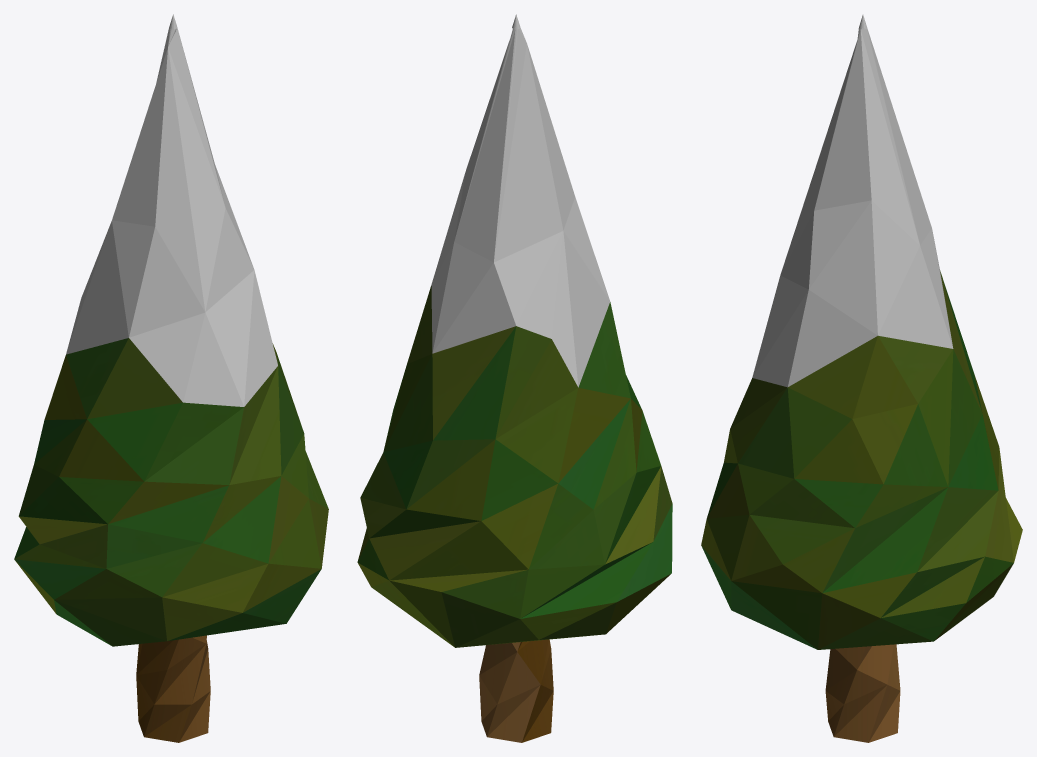
Rendered from pine_tree-halfsnow.fbx.
3 renders of one model, left to right at view 1: azimuth 30°, elevation 25°; view 2: azimuth 150°, elevation 25°; view 3: azimuth 270°, elevation 25°, orthographic.
Parts seen in each view (by area): view 1: leaves, pine; view 2: leaves, pine; view 3: leaves, pine.
Boxes of the visible parts, x1,y1,x2,y2 form: leaves: (14, 14, 328, 646); pine: (136, 635, 210, 742); leaves: (357, 14, 672, 647); pine: (479, 639, 553, 742); leaves: (701, 14, 1022, 649); pine: (825, 644, 900, 742).
Bounding box in the file's own units: 1128 × 2778 × 1136.
